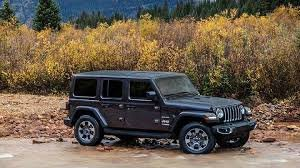mobil: (67, 67, 248, 157)
